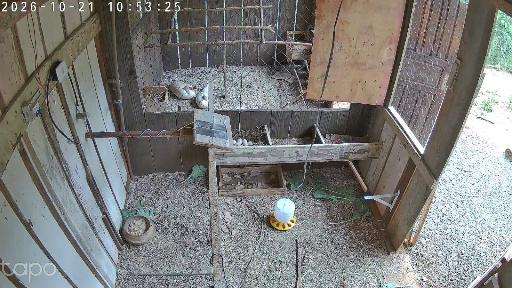ovos: (233, 138, 253, 146)
pato: (169, 78, 195, 100), (196, 85, 209, 109)
